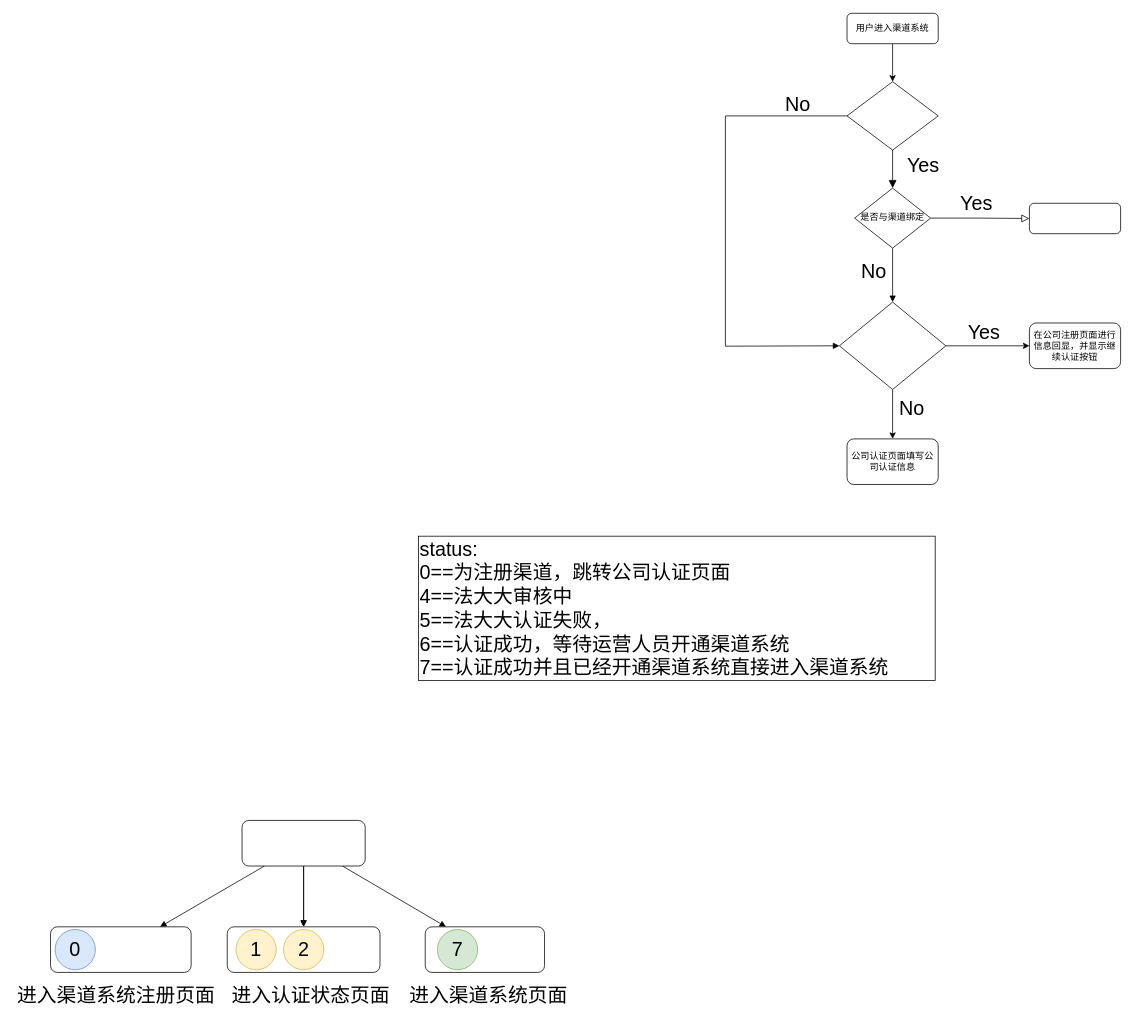
Some shapes in this 1134 by 1022 pixel diagram are drawn without their labels. Here are the shapes that lost their labels. From the top down, the centre of each, then its label:
(892,115): 是否存在魔方账号
(1075,218): 进入渠道系统
(892,345): 是否已经认证过公司
(303,843): 用户登录系统
